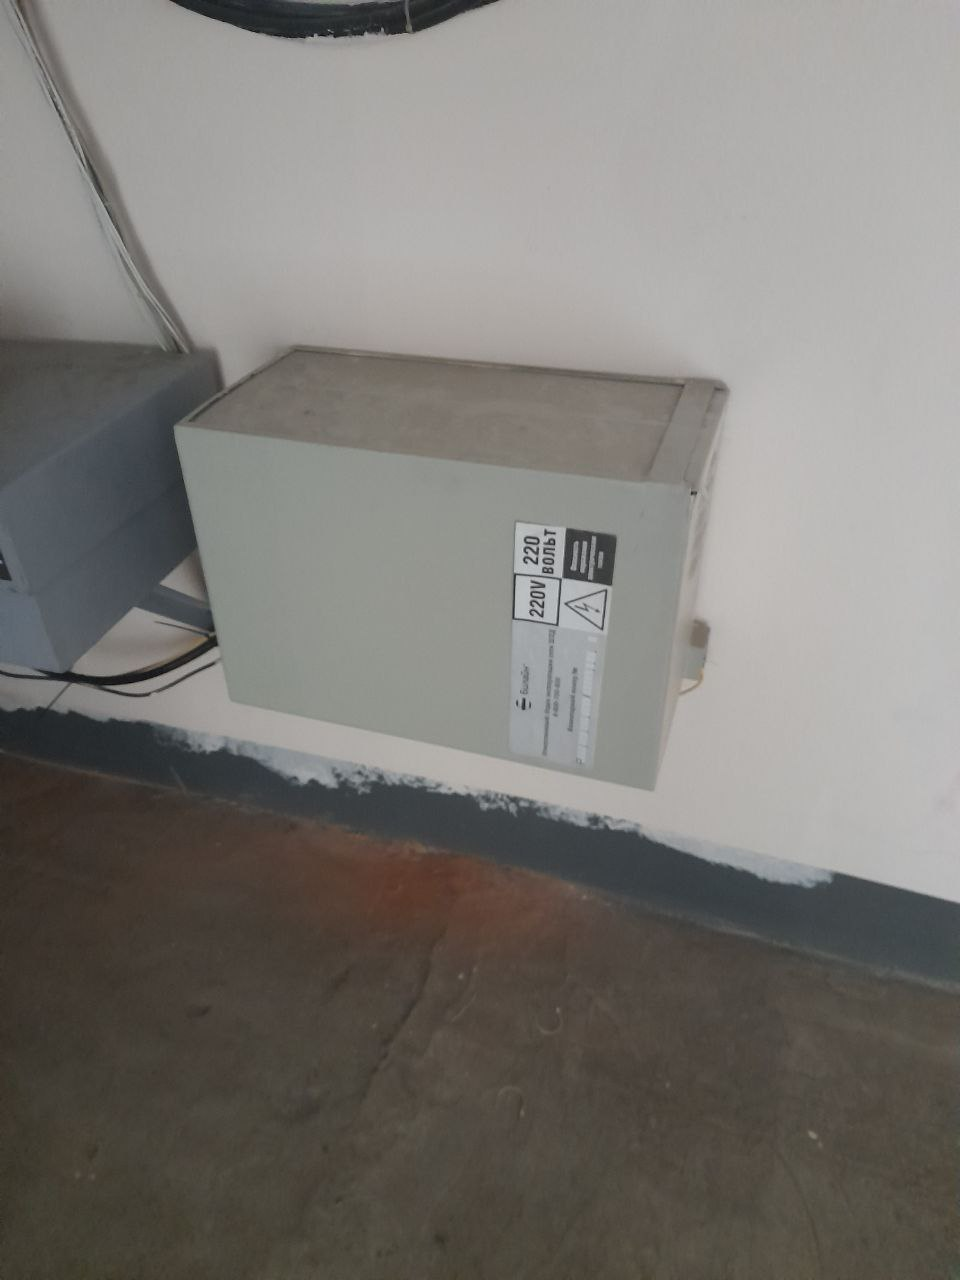sv-5: (168, 333, 741, 798)
